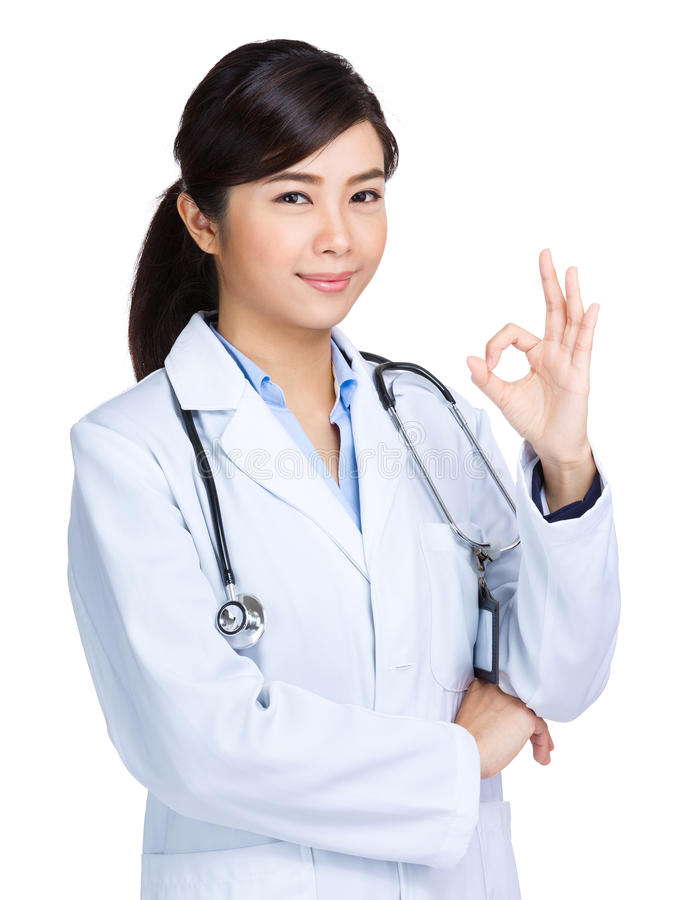hand: (468, 248, 601, 467), (459, 674, 555, 779)
